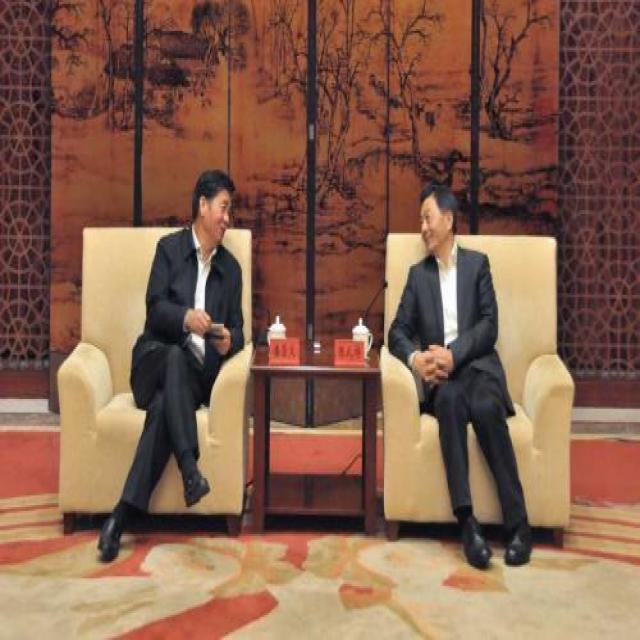no hat: (191, 165, 237, 248), (416, 179, 457, 253)
